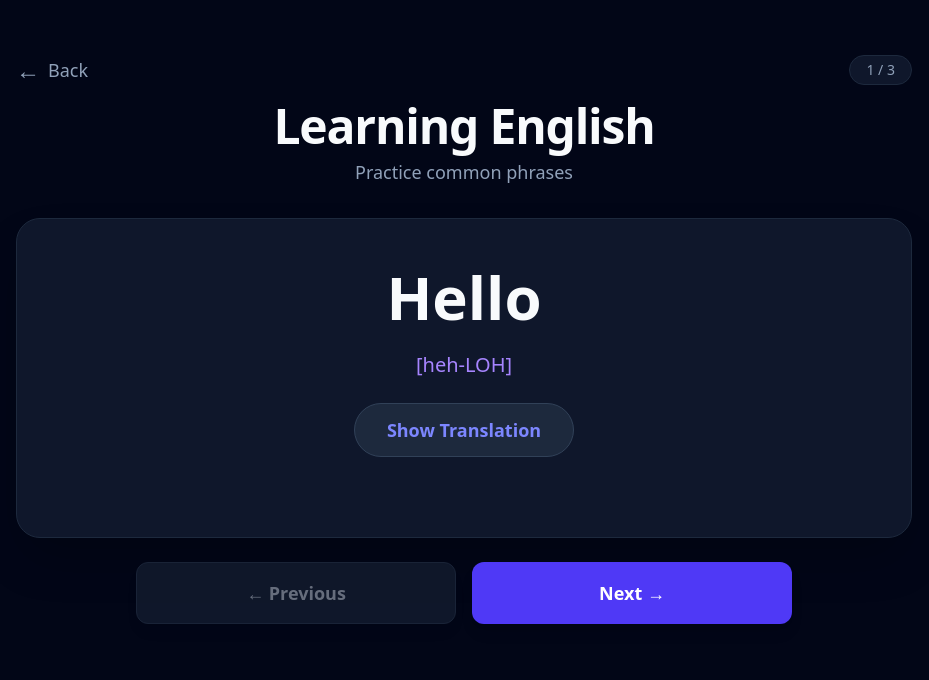
Test: Learning › shows translation when button is clicked
The width and height of the screenshot is (929, 680).
Click the button labelled "Show Translation": (464, 430) [354,403,574,457]
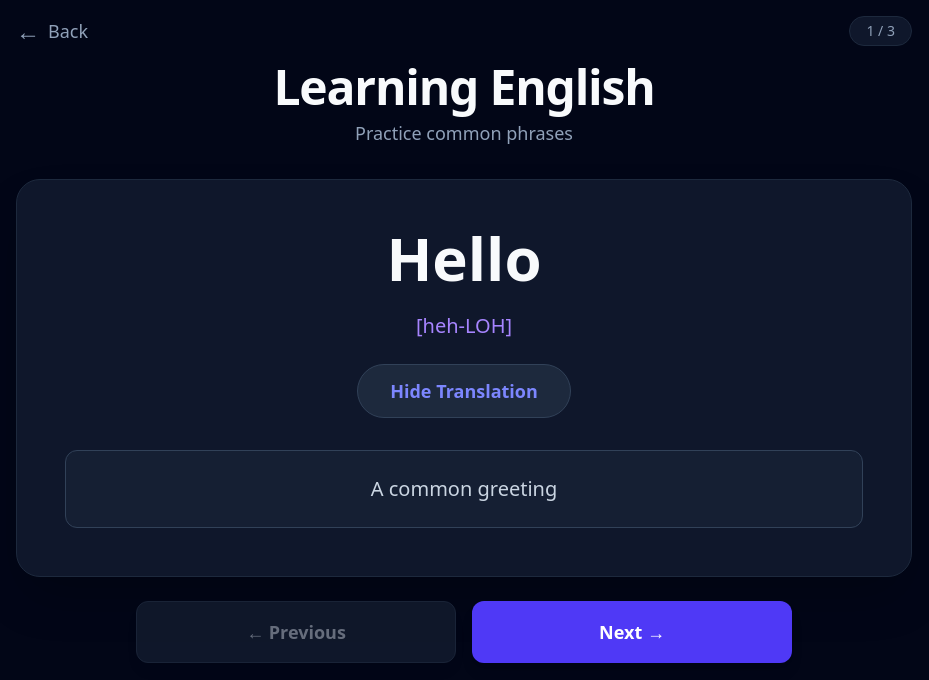
Check: the text "A common greeting" is shown, box [371,475,557,502]
Check: the button labelled "Hide Translation" is shown, box [357,364,571,418]
